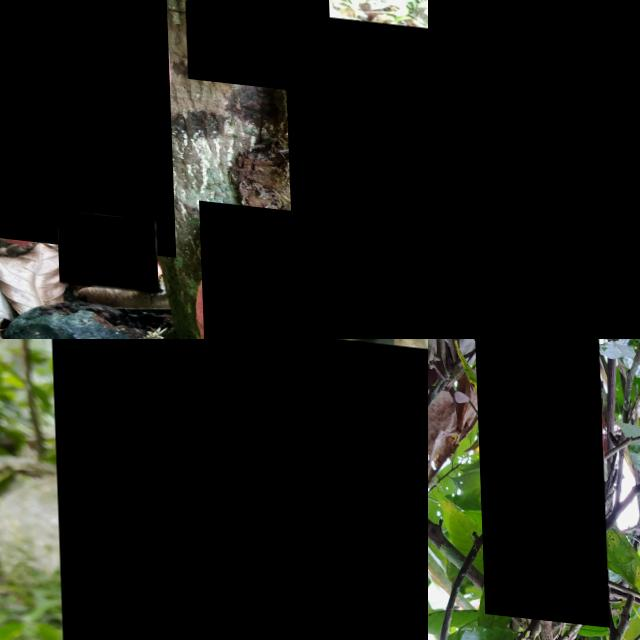Fitoftora: (49, 339, 428, 640), (282, 3, 428, 339), (469, 339, 606, 620), (196, 194, 347, 339), (54, 209, 155, 289)
Monilia: (428, 0, 640, 339)
Sana: (0, 0, 172, 252), (178, 0, 330, 85)
